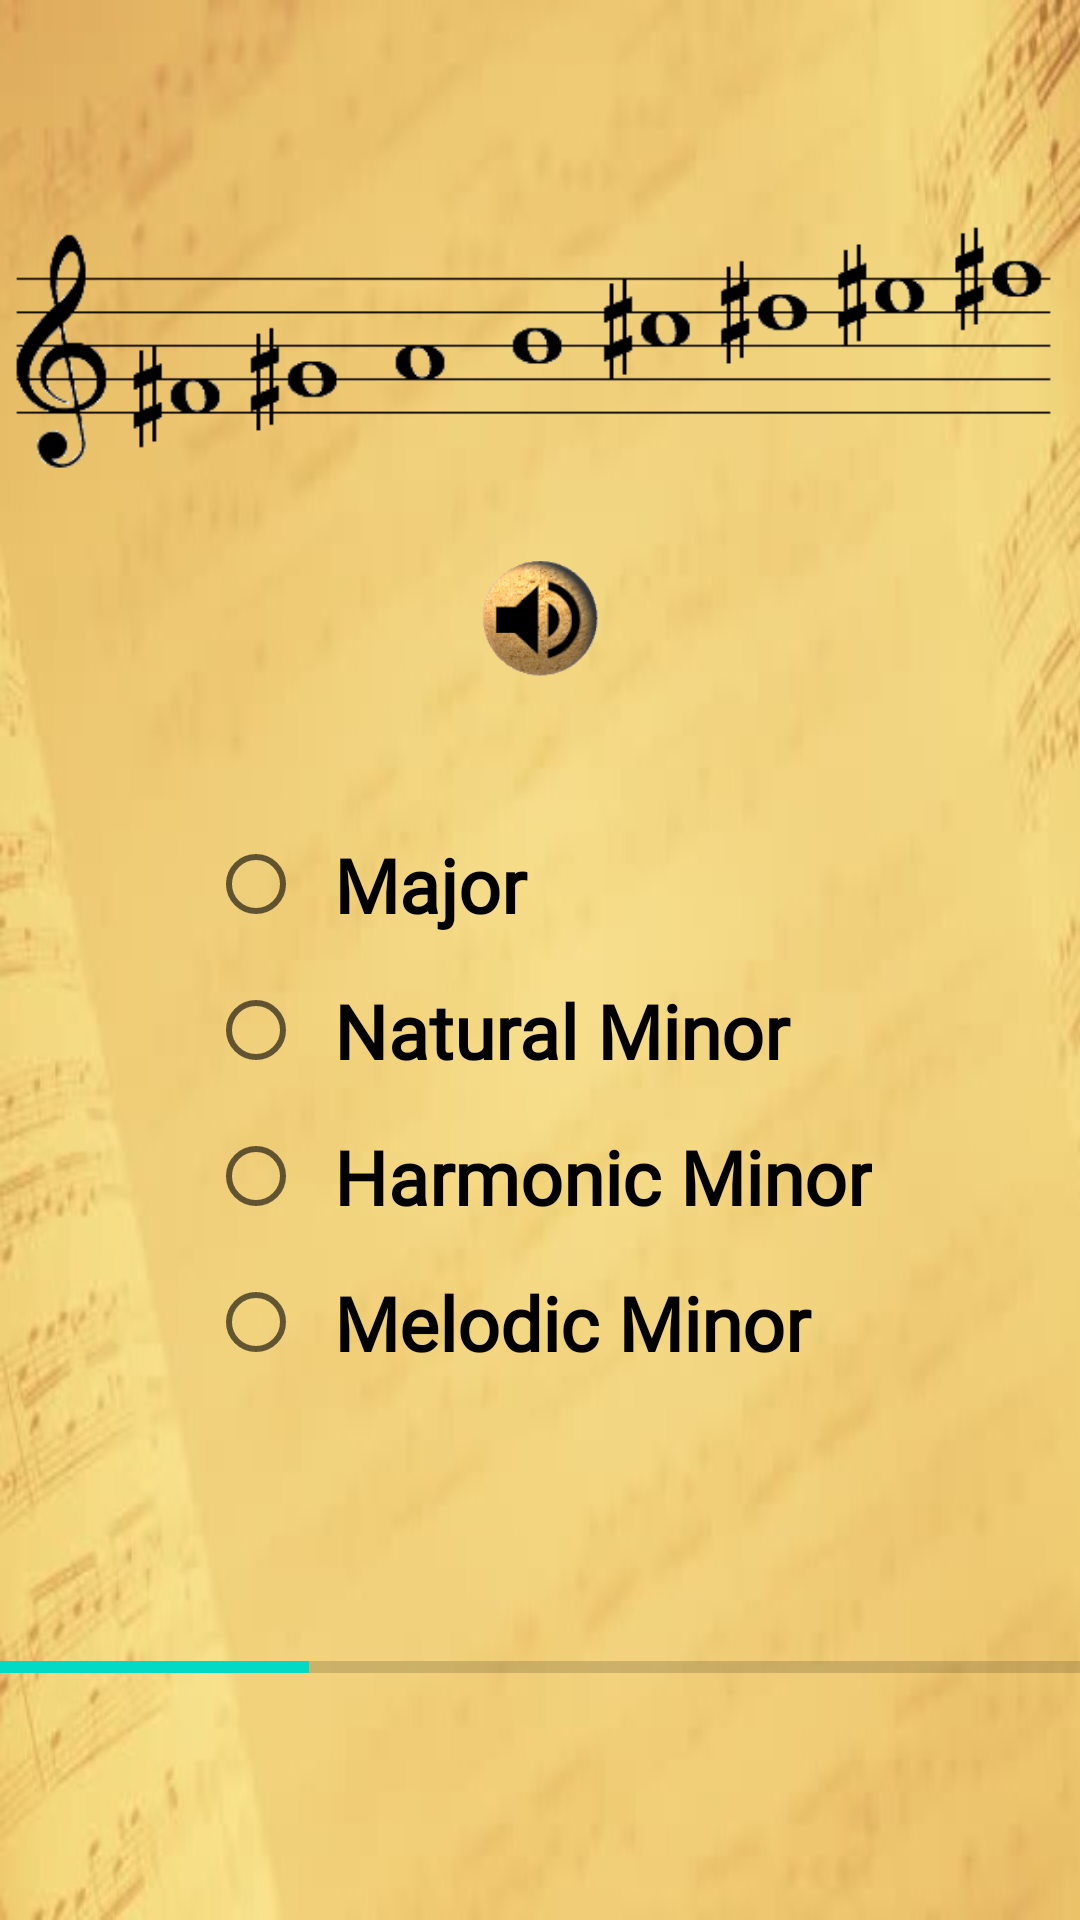

Screen size 1080 × 1920. Icon name, then its center in pixels as [x,y]:
sound: [540,618]
